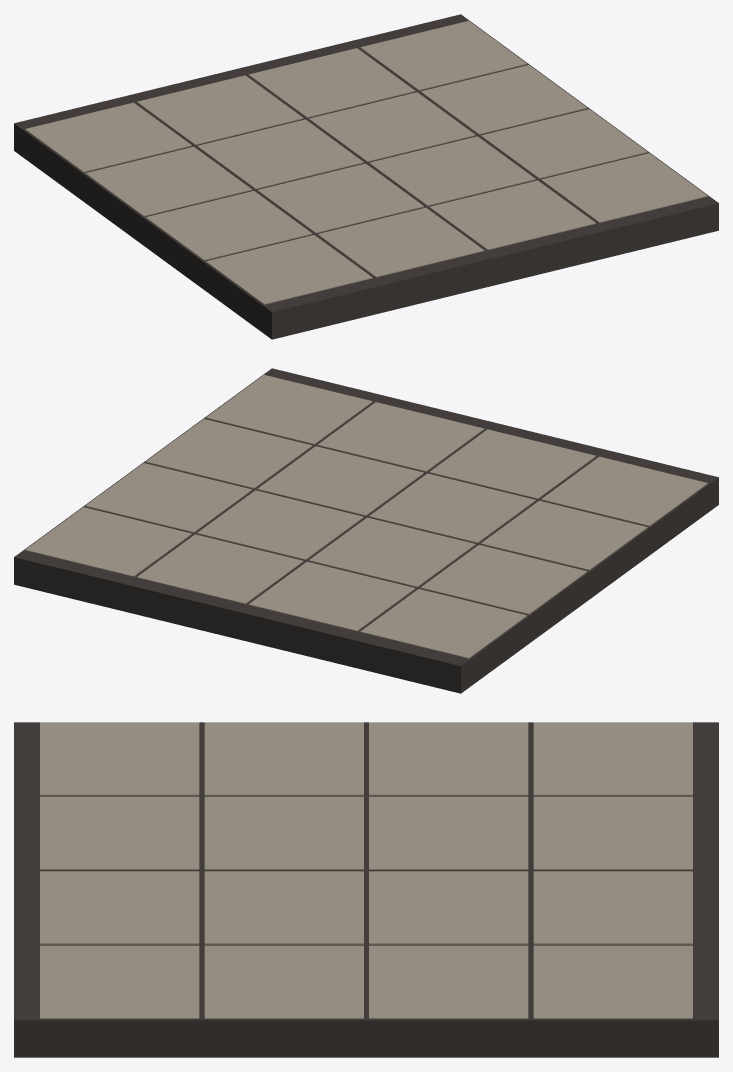
The model's file is Kit_Floor.fbx.
3 views of the same model, one above another, from view 1: azimuth 30°, elevation 25°; view 2: azimuth 150°, elevation 25°; view 3: azimuth 270°, elevation 25° (orthographic). The views are drawn at different scales.
Visible parts, largest first — view 1: Decor, Floor; view 2: Decor, Floor; view 3: Decor, Floor.
Boxes of the visible parts, x1,y1,x2,y2 form: Decor: [25, 21, 707, 304]; Floor: [14, 14, 718, 339]; Decor: [25, 375, 707, 658]; Floor: [14, 368, 718, 693]; Decor: [40, 722, 692, 1018]; Floor: [14, 722, 718, 1057].
Size of the model in its own units: 34 by 2.06 by 34.
